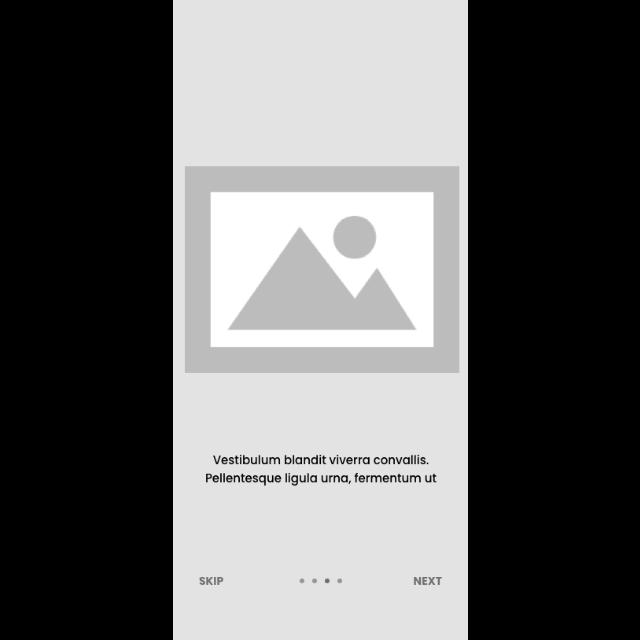image: (185, 166, 460, 374)
pageindicator: (298, 578, 342, 584)
text: (206, 454, 437, 488), (412, 576, 442, 586), (199, 576, 223, 586)
